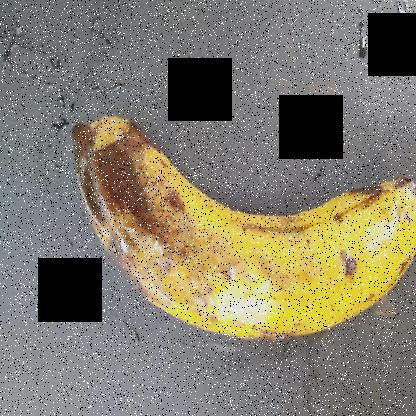ripe: (197, 154, 415, 349)
rotten: (57, 86, 220, 321)
